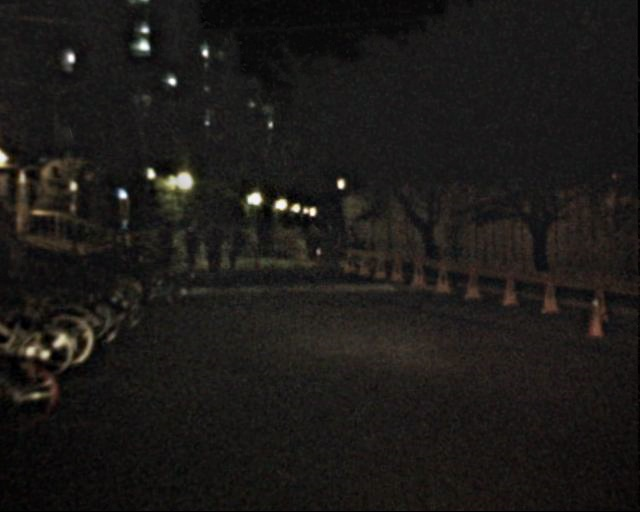person: (7, 229, 31, 287), (200, 218, 223, 274), (342, 227, 362, 276), (183, 221, 203, 269), (157, 223, 175, 268), (226, 226, 244, 271), (257, 221, 276, 254)
